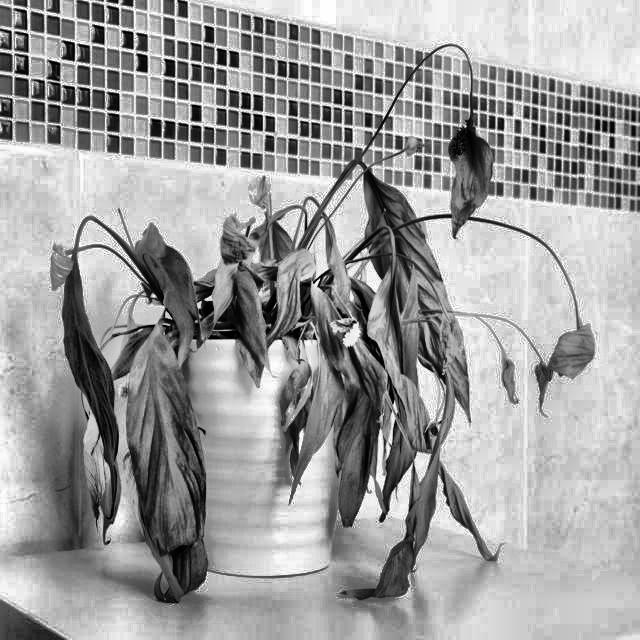plants: (47, 39, 593, 618), (120, 304, 218, 604), (400, 36, 500, 242), (532, 314, 594, 414), (427, 299, 465, 379), (498, 350, 520, 407)
